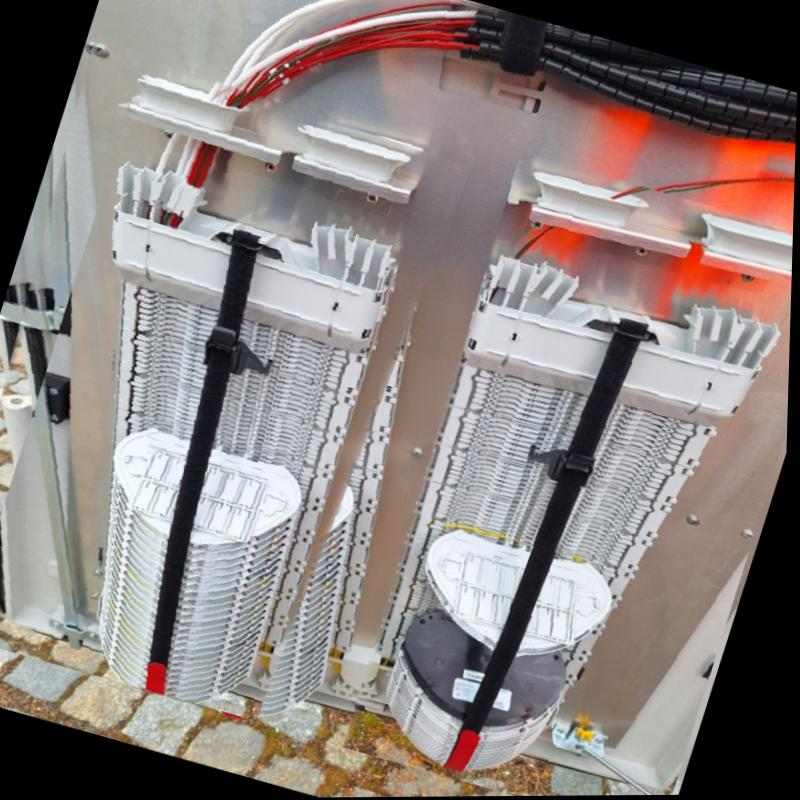NT-Gehause: (7, 0, 798, 796)
Spleiskassetten: (374, 164, 794, 783), (96, 71, 451, 708)
